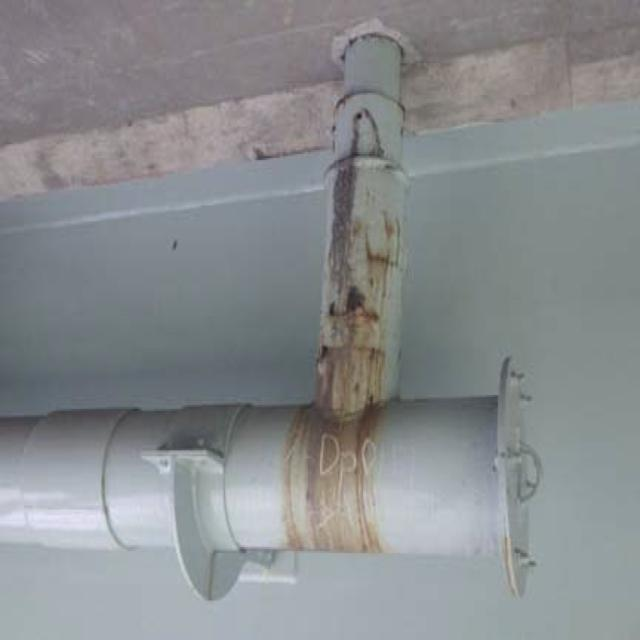corrosion: (286, 153, 391, 576)
